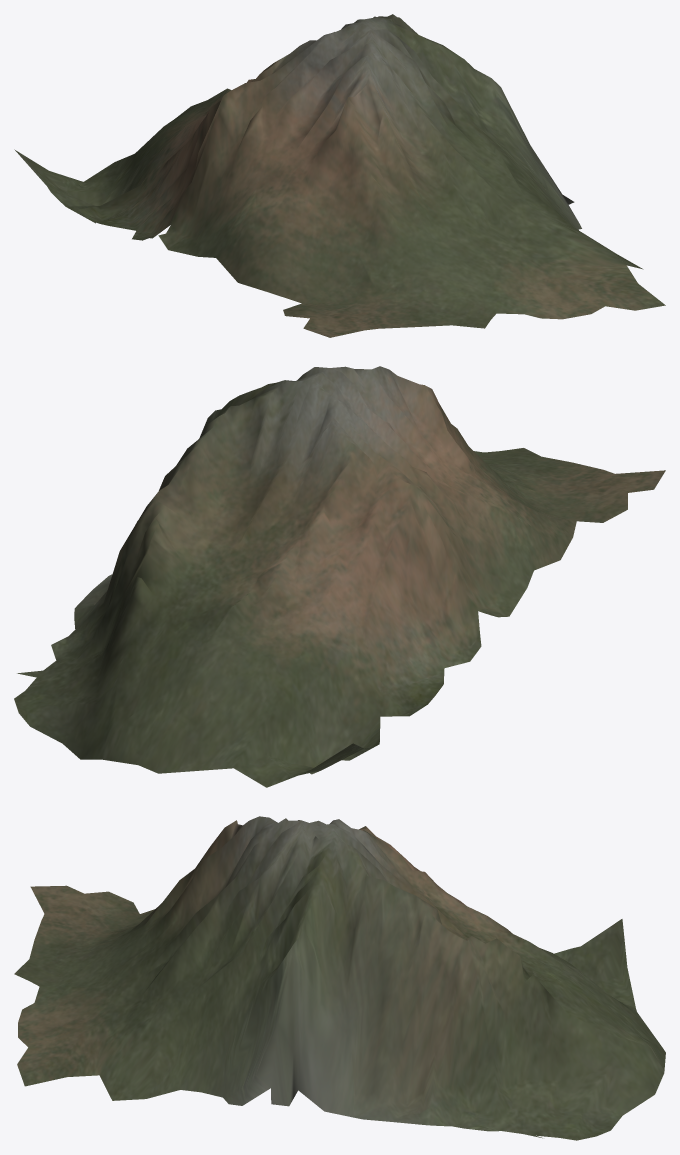
The model's file is mountain_02.FBX.
The picture shows the model from 3 angles, top to bottom: view 1: azimuth 30°, elevation 25°; view 2: azimuth 150°, elevation 25°; view 3: azimuth 270°, elevation 25°; orthographic projection. The views are drawn at different scales.
Parts seen in each view (by area): view 1: 对象002; view 2: 对象002; view 3: 对象002.
Boxes of the visible parts, x1,y1,x2,y2 form: 对象002: (14, 14, 665, 337); 对象002: (14, 366, 665, 787); 对象002: (14, 816, 665, 1140).
Bounding box in the file's own units: 399 × 266 × 623.
